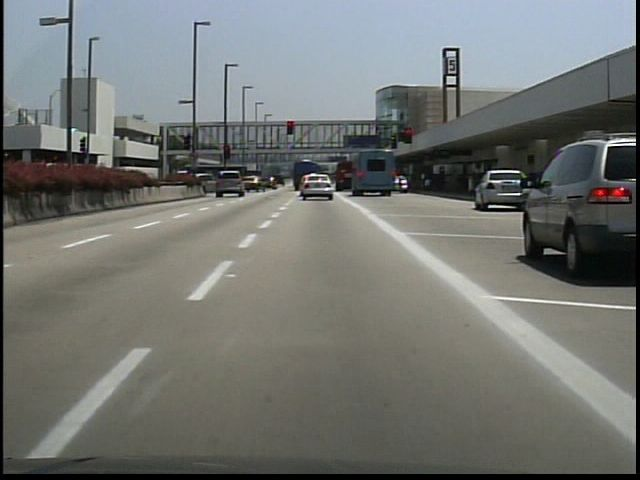car: (516, 140, 637, 268), (475, 170, 531, 210), (300, 172, 334, 201), (215, 169, 249, 198), (246, 169, 268, 192)
strada: (8, 211, 622, 465)
